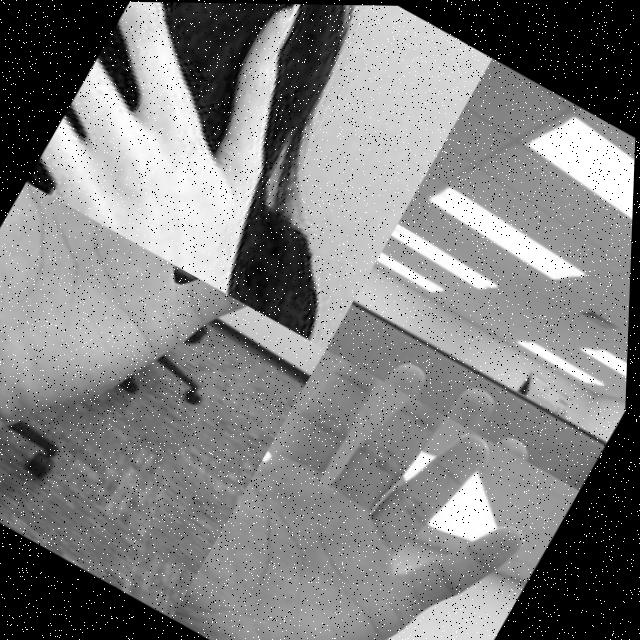hand: (22, 0, 421, 319), (174, 344, 564, 640), (0, 180, 287, 496)
